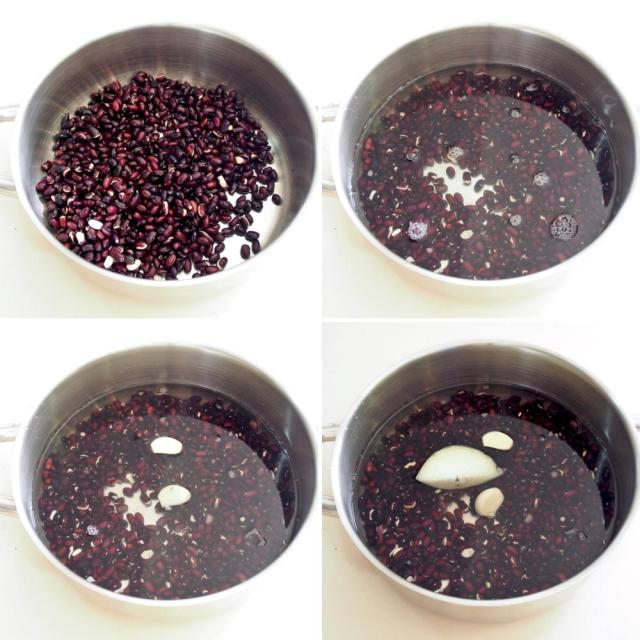frijoles: (27, 59, 307, 282)
